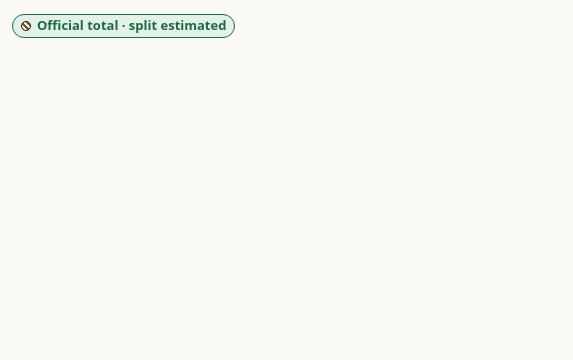
Test: StatusBadge › states the total and the split separately and names what pins the total (not by id)
Click the button: (124, 26) [12, 14, 235, 38]
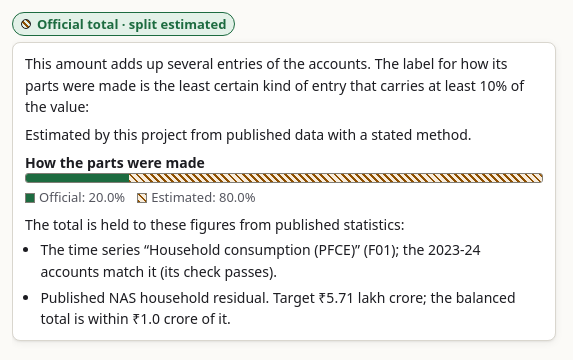
Now the button is expanded, box [12, 12, 235, 36]
Now the text "held to these figures from published statistics" is shown, box [25, 215, 404, 234]
Now the 3rd list item shows "Household consumption (PFCE)", box [40, 240, 481, 281]
